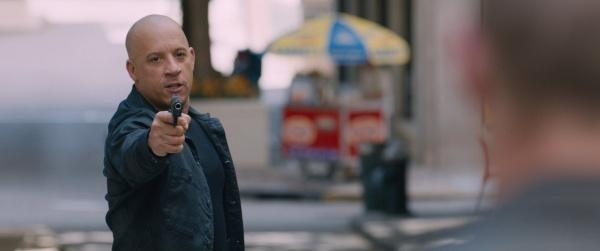Gun: (170, 93, 183, 121)
